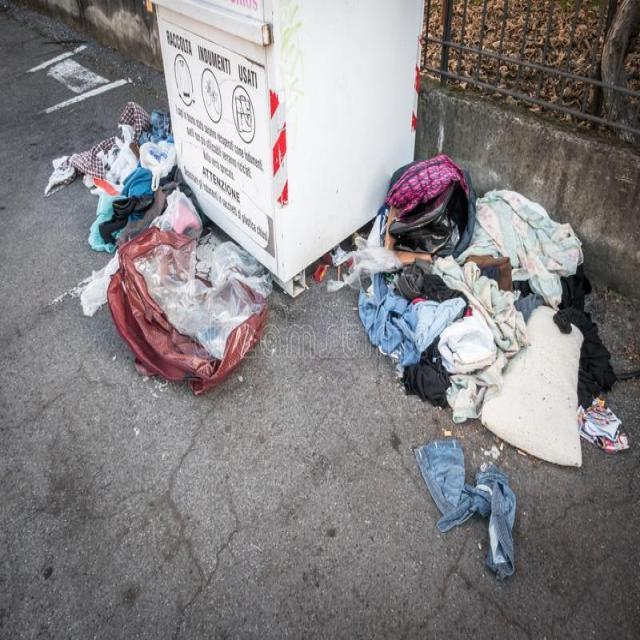clothes: (464, 190, 560, 340)
